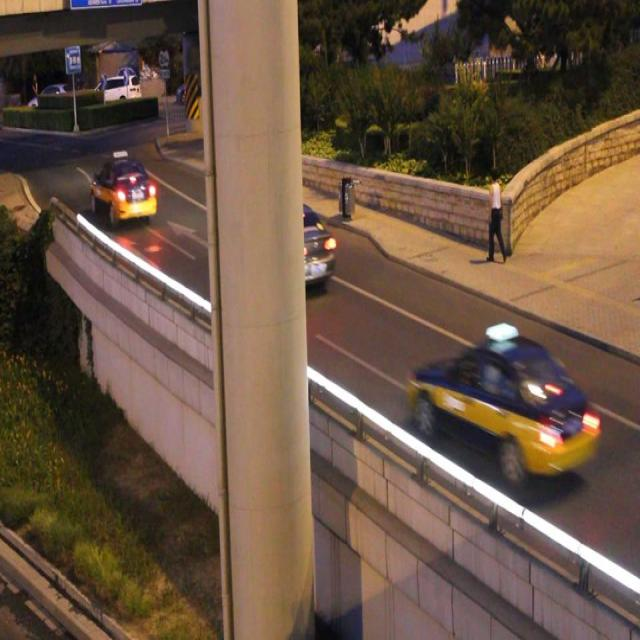car: (412, 334, 600, 480), (249, 205, 333, 288), (91, 159, 156, 221)
